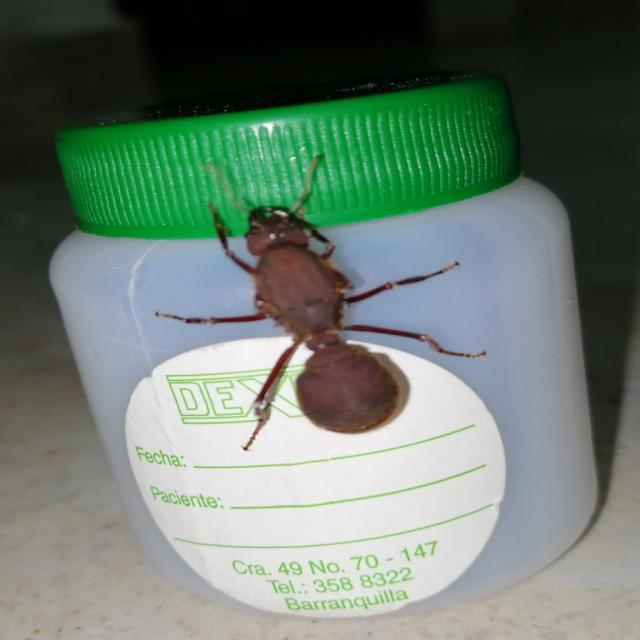Alive-Female-Dealate: (152, 152, 489, 453)
